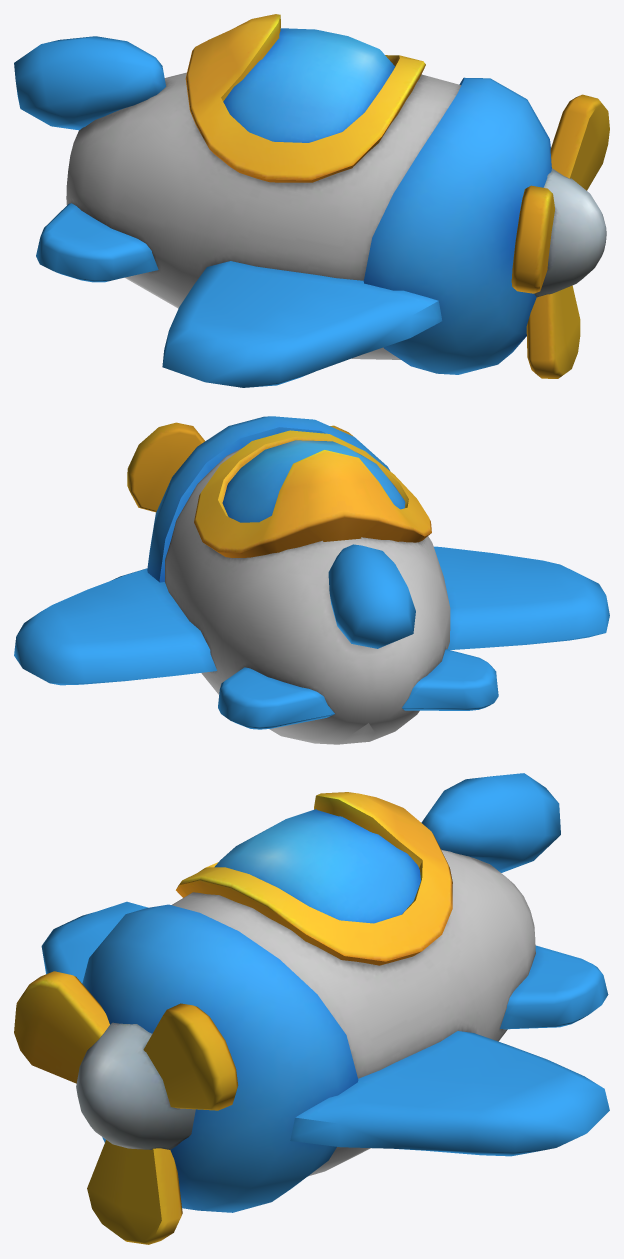
The model's file is 0-plane_blue.fbx.
The picture shows the model from 3 angles, top to bottom: view 1: azimuth 30°, elevation 25°; view 2: azimuth 150°, elevation 25°; view 3: azimuth 270°, elevation 25°; orthographic projection. The views are drawn at different scales.
Parts seen in each view (by area): view 1: 0-plane_blue; view 2: 0-plane_blue; view 3: 0-plane_blue.
Part boxes in pixels (bbox=[...]): 0-plane_blue: bbox=[14, 14, 609, 387]; 0-plane_blue: bbox=[14, 416, 609, 744]; 0-plane_blue: bbox=[14, 773, 609, 1244].
Size of the model in its own units: 75.14 by 48.03 by 74.94.
